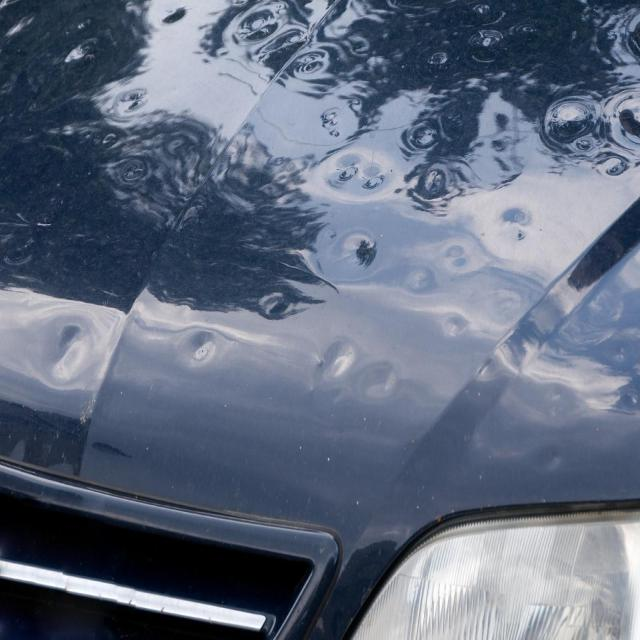dent: (537, 82, 640, 183), (22, 303, 114, 397), (232, 3, 336, 83), (314, 334, 406, 410), (324, 149, 400, 204), (415, 158, 472, 208), (327, 225, 383, 275), (180, 323, 233, 372), (399, 113, 446, 156), (254, 282, 300, 322), (468, 26, 508, 66), (116, 78, 154, 119), (118, 151, 152, 192), (618, 8, 640, 70), (402, 262, 442, 296), (442, 239, 472, 277), (438, 305, 469, 339), (423, 43, 456, 71), (159, 3, 191, 28)
